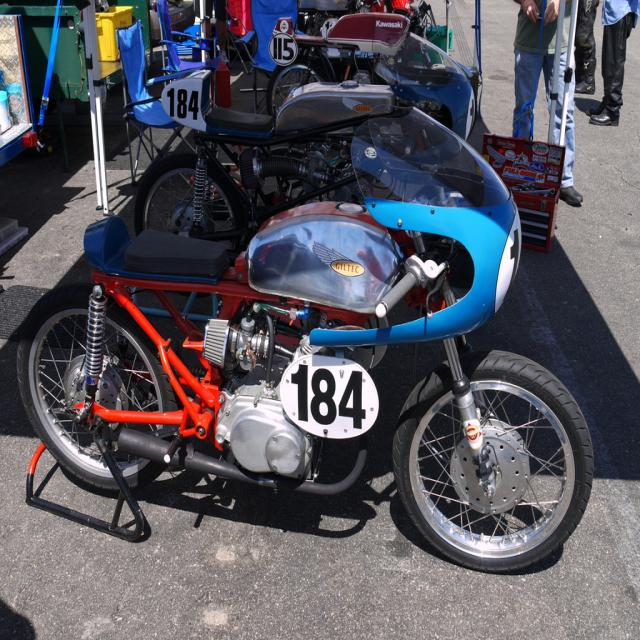Motorbikes: (17, 122, 592, 589)
